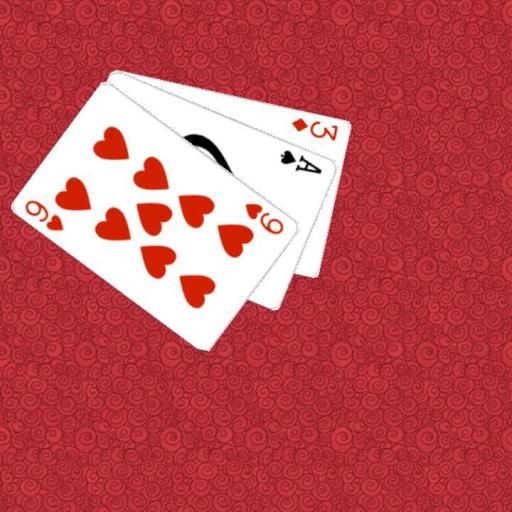3D: (288, 115, 340, 142)
9H: (21, 196, 66, 233), (242, 199, 286, 236)
AS: (278, 147, 325, 176)
